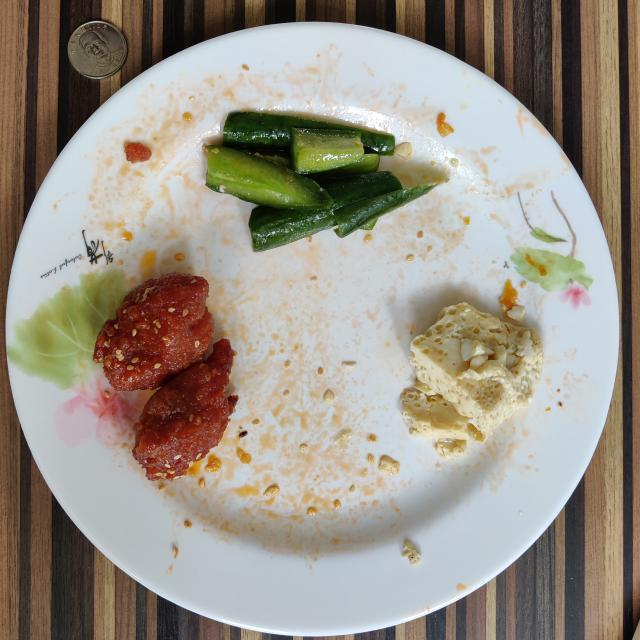coin: (68, 21, 126, 79)
cucumber: (206, 111, 438, 251)
